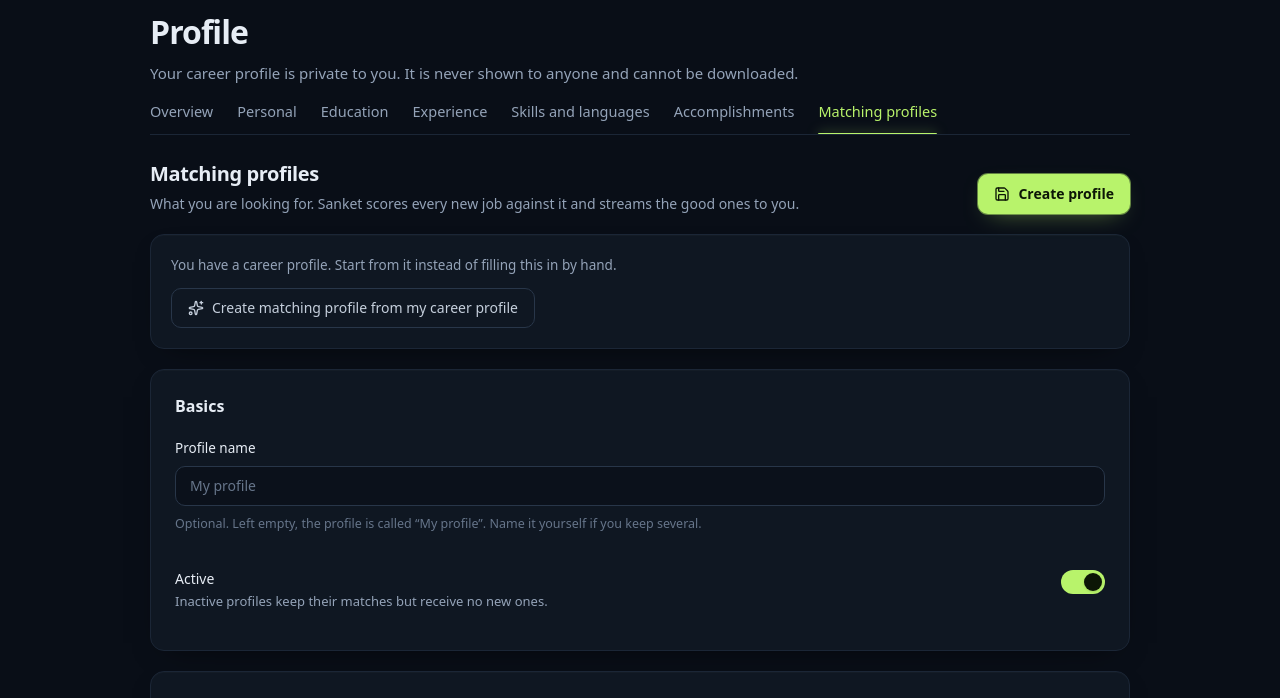
Test: Create matching profile from my career profile › also starts from the matching page when nothing is saved there
Click the button "Create matching profile from my career profile": x=353, y=308 [171, 288, 535, 328]
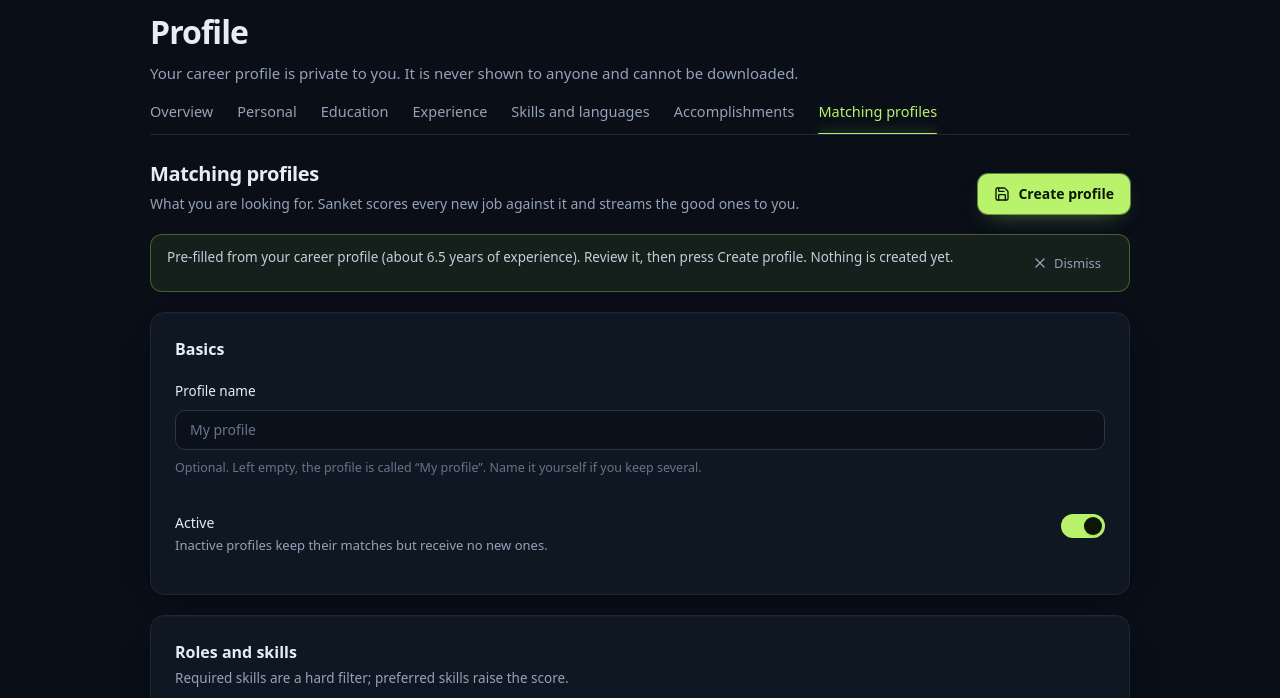
Check: the text "Pre-filled from your career profile" is shown, box [167, 248, 378, 266]
Check: the text "You have a career profile. Start from it" is gone
